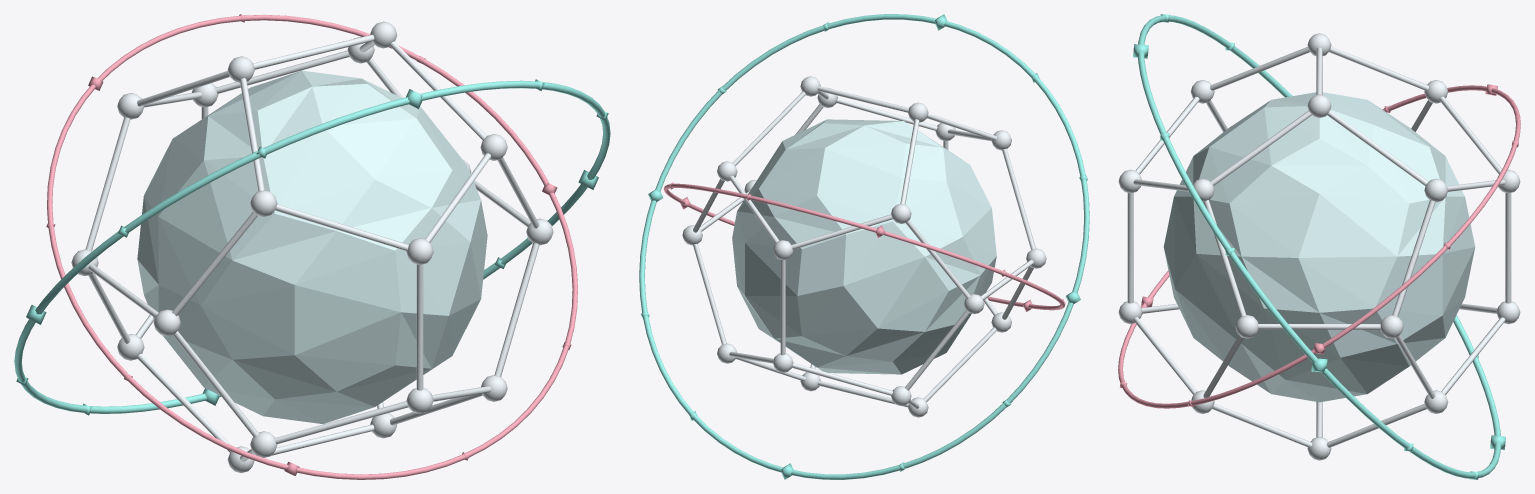
The model's file is nano-assembly.glb.
3 views of the same model, side by side, from view 1: azimuth 30°, elevation 25°; view 2: azimuth 150°, elevation 25°; view 3: azimuth 270°, elevation 25° (orthographic). The views are drawn at different scales.
Visible parts, largest first — view 1: RefractiveShell, MolecularCage, GimbalRingInner, GimbalRingOuter; view 2: RefractiveShell, MolecularCage, GimbalRingOuter, GimbalRingInner; view 3: RefractiveShell, MolecularCage, GimbalRingOuter, GimbalRingInner.
Boxes of the visible parts, box(x1,y1,x2,y2) form: RefractiveShell: box(137, 70, 487, 423); MolecularCage: box(71, 21, 553, 472); GimbalRingInner: box(46, 14, 577, 479); GimbalRingOuter: box(14, 79, 610, 415); RefractiveShell: box(732, 119, 996, 374); MolecularCage: box(682, 76, 1046, 417); GimbalRingOuter: box(639, 14, 1089, 479); GimbalRingInner: box(663, 182, 1065, 311); RefractiveShell: box(1163, 92, 1475, 402); MolecularCage: box(1118, 33, 1520, 460); GimbalRingOuter: box(1133, 14, 1505, 479); GimbalRingInner: box(1118, 84, 1520, 408).
Size of the model in its own units: 4.25 by 3.28 by 2.95.
